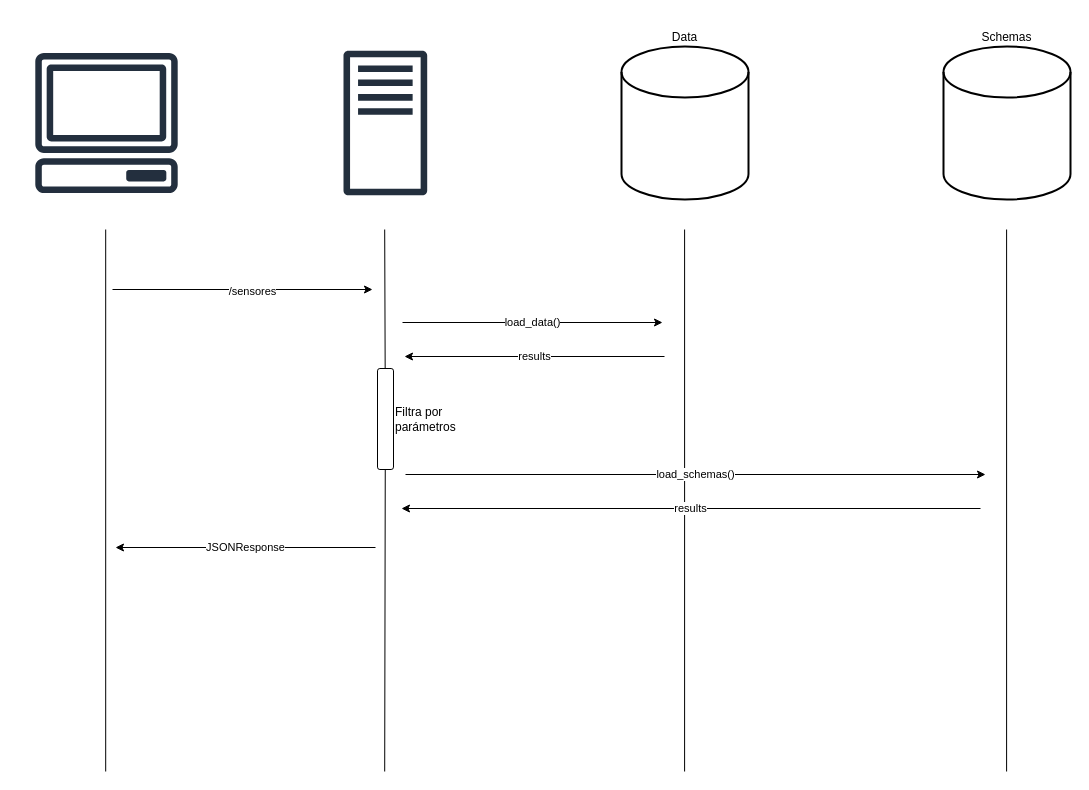
Some shapes in this 1089 by 790 pixel diagram are drawn without their labels. Here are the shapes that lost their labels. From the top down, the centre of each, then its label:
At point 106,122: "Cliente".
At point 385,122: "Server".
